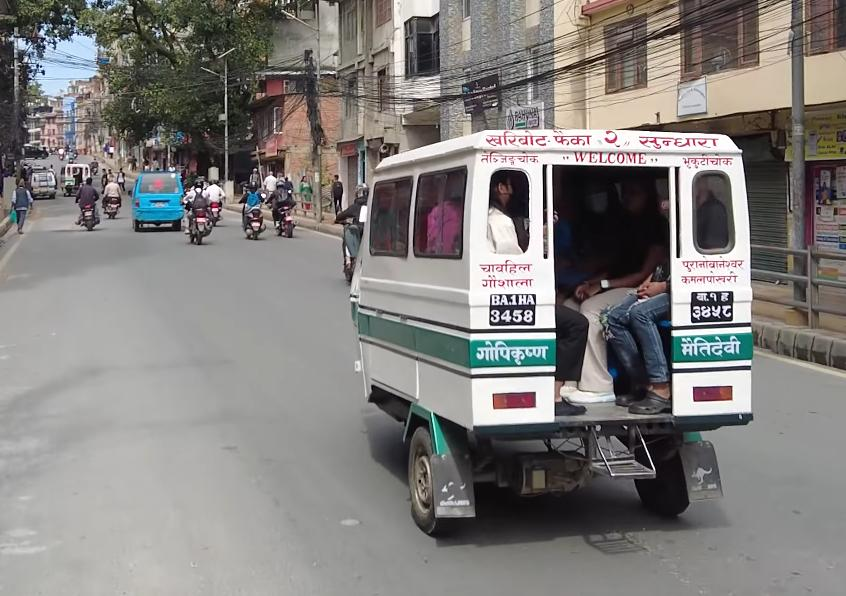bike: (184, 195, 212, 248), (267, 190, 296, 237), (75, 190, 100, 231)
scooter: (235, 192, 272, 241)
tempo: (337, 115, 759, 535)
van: (129, 169, 187, 231)
